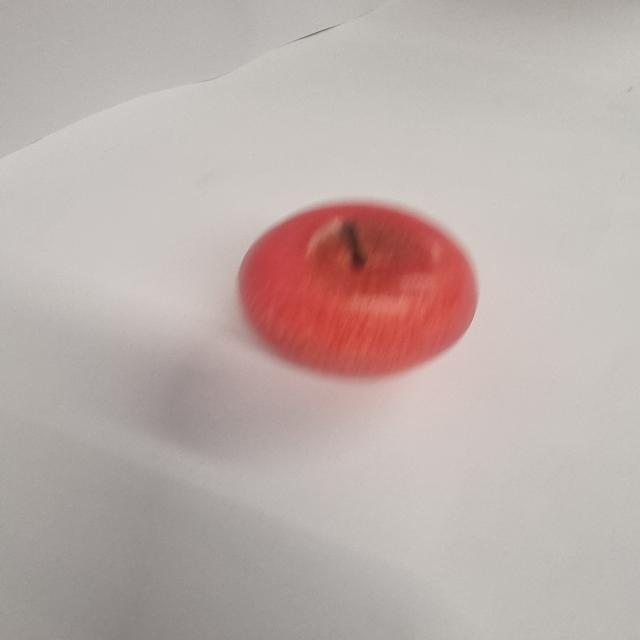apple: (238, 200, 478, 380)
